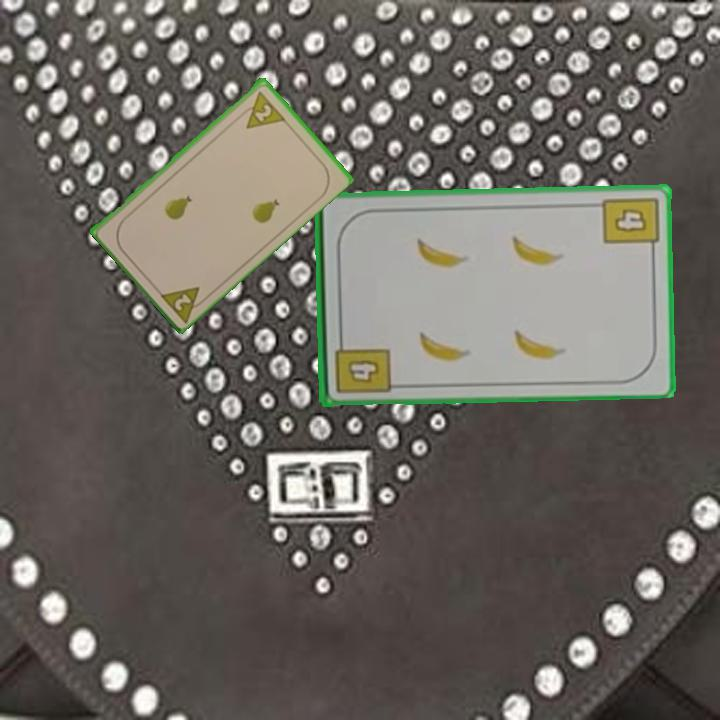2p: (155, 282, 212, 325), (235, 87, 287, 131)
4b: (331, 331, 393, 396), (599, 193, 661, 257)
